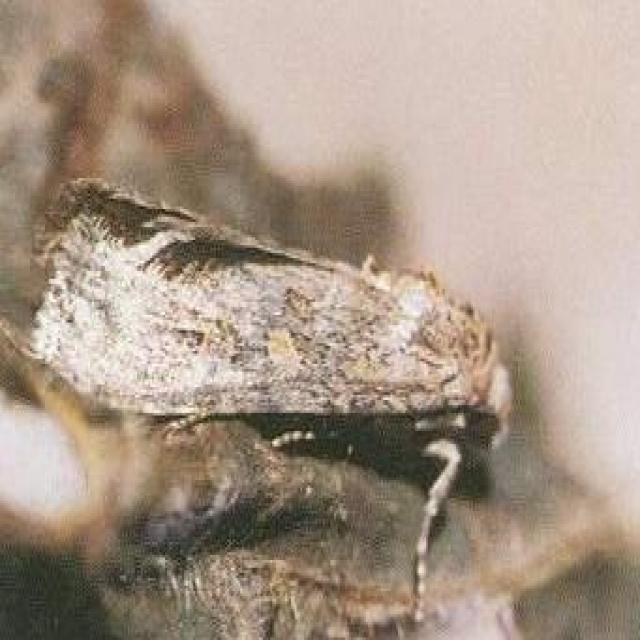BeetArmyWorm-Adult-: (35, 167, 519, 457)
